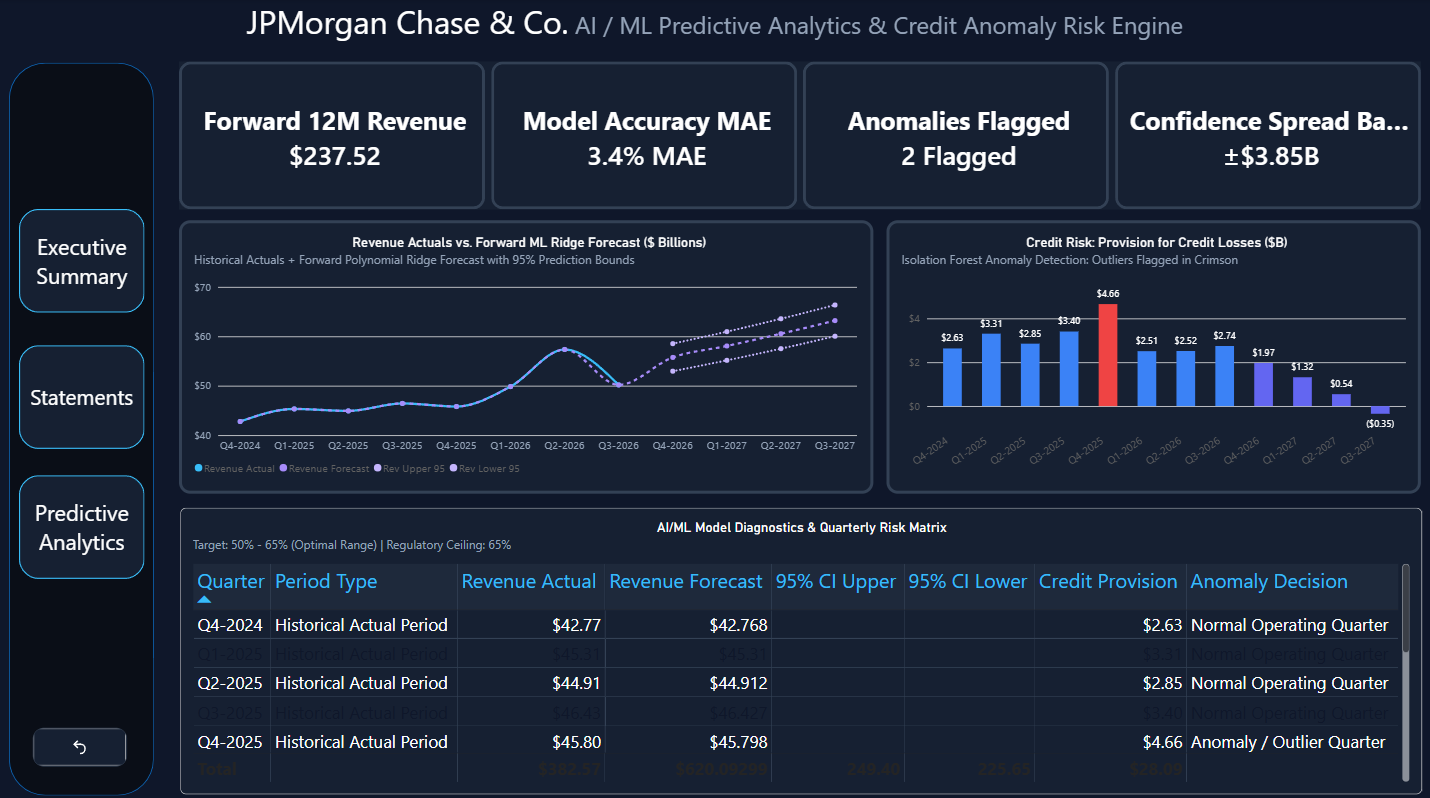

The page's visual inventory and layout, read from the dashboard file:
{"tool":"powerbi","page":{"name":"Predictive Analytics","canvas":[1920,1080],"ordinal":2},"visuals":[{"type":"shape","box":[14,86,194,982],"z":0},{"type":"lineChart","title":"Revenue Actuals vs. Forward ML Ridge Forecast ($ Billions)","fields":{"Category":["jpm_financial_ml_enriched.Quarter"],"Y":["_JPM_Measures.Revenue Actual","_JPM_Measures.Revenue Forecast","_JPM_Measures.Rev Upper 95","_JPM_Measures.Rev Lower 95"]},"box":[242,296,930,366],"z":1000},{"type":"cardVisual","fields":{"Data":["_JPM_Measures.Forward 12M Revenue","_JPM_Measures.Model Accuracy MAE","_JPM_Measures.Anomalies Flagged","_JPM_Measures.Confidence Spread Band"]},"box":[242,84,1664,198],"z":2000},{"type":"clusteredColumnChart","title":"Credit Risk: Provision for Credit Losses ($B)","fields":{"Category":["jpm_financial_ml_enriched.Quarter"],"Y":["_JPM_Measures.Provision Losses"]},"box":[1190,296,716,366],"z":3000},{"type":"tableEx","title":"AI/ML Model Diagnostics & Quarterly Risk Matrix","fields":{"Values":["jpm_financial_ml_enriched.Quarter","jpm_financial_ml_enriched.is_forecast","_JPM_Measures.Revenue Actual","_JPM_Measures.Revenue Forecast","_JPM_Measures.Rev Upper 95","_JPM_Measures.Rev Lower 95","_JPM_Measures.Provision Losses","jpm_financial_ml_enriched.ml_anomaly_flag"]},"box":[242.5,682.5,1664,384],"z":4000},{"type":"actionButton","box":[26,282,168.3,138.9],"z":5000},{"type":"actionButton","box":[26.7,464.8,168.3,138.9],"z":6000},{"type":"actionButton","box":[26.7,638.4,168.3,138.9],"z":7000},{"type":"textbox","box":[14,0,1892,86],"z":8000},{"type":"actionButton","box":[46,976,126,52],"z":9000}]}

Visuals, with their boxes in screenshot pixels (x1, y1, x2, y2), scaled from the page's 1920x1080 canvas onto the 1430x798 screenshot:
shape: BBox(10, 64, 155, 789)
"Revenue Actuals vs. Forward ML Ridge Forecast ($ Billions)" lineChart: BBox(180, 219, 873, 489)
cardVisual - _JPM_Measures.Forward 12M Revenue x _JPM_Measures.Model Accuracy MAE: BBox(180, 62, 1420, 208)
"Credit Risk: Provision for Credit Losses ($B)" clusteredColumnChart: BBox(886, 219, 1420, 489)
"AI/ML Model Diagnostics & Quarterly Risk Matrix" tableEx: BBox(181, 504, 1420, 788)
actionButton: BBox(19, 208, 145, 311)
actionButton: BBox(20, 343, 145, 446)
actionButton: BBox(20, 472, 145, 574)
textbox: BBox(10, 0, 1420, 64)
actionButton: BBox(34, 721, 128, 760)
